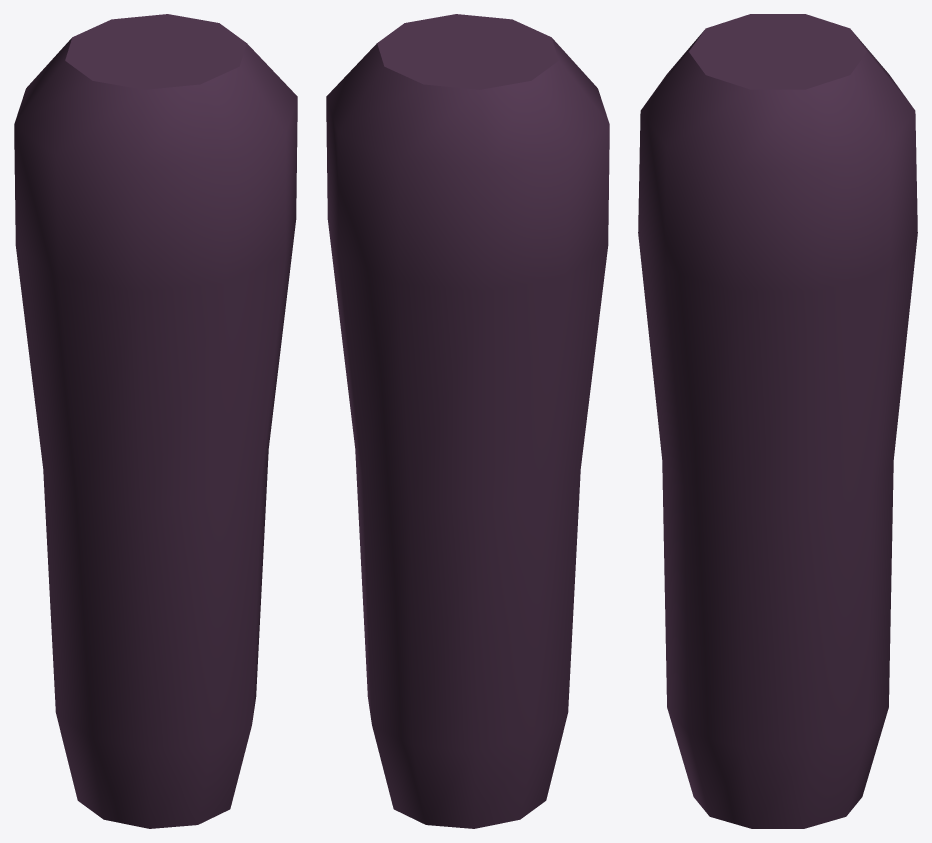
The model's file is brazo_izq.obj.
3 views of the same model, side by side, from view 1: azimuth 30°, elevation 25°; view 2: azimuth 150°, elevation 25°; view 3: azimuth 270°, elevation 25° (orthographic).
Visible parts, largest first — view 1: brazo_izq; view 2: brazo_izq; view 3: brazo_izq.
Part boxes in pixels (left/top/right/bottom): brazo_izq: left=14, top=14, right=297, bottom=828; brazo_izq: left=326, top=14, right=609, bottom=828; brazo_izq: left=638, top=14, right=917, bottom=828.
Bounding box in the file's own units: 0.116 × 0.341 × 0.116.
